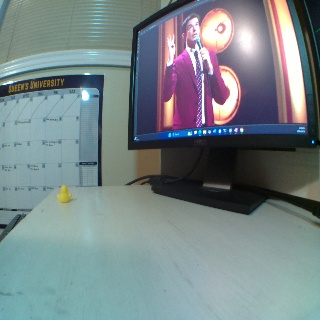duck_regular: (55, 184, 71, 203)
